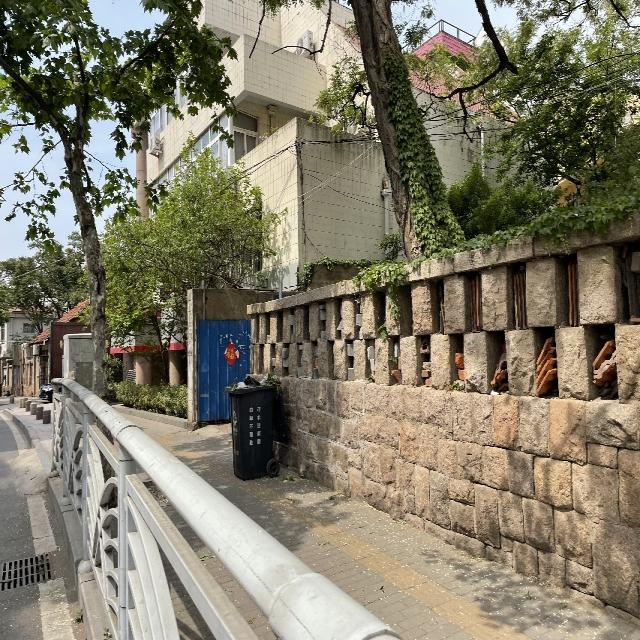overflow: (225, 373, 278, 479)
